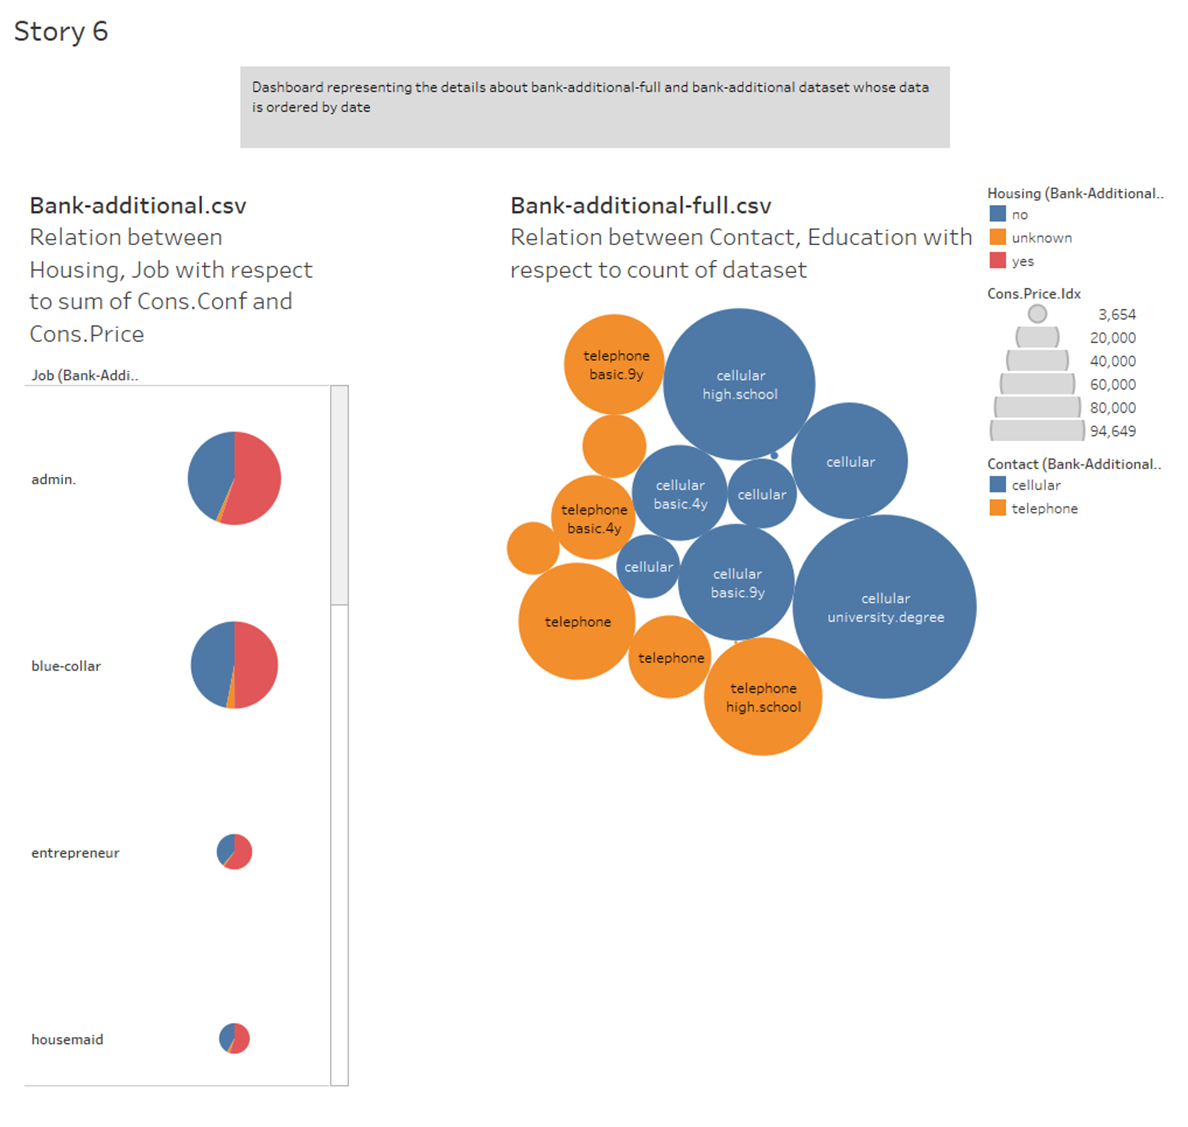

The page's visual inventory and layout, read from the dashboard file:
{"tool":"tableau","page":{"name":"Dashboard 2","canvas":[1000,800],"ordinal":1},"visuals":[{"type":"worksheet","title":"Sheet 2","mark":"Pie","rows":["job (bank-additional.csv)"],"box":[8,8,412,784]},{"type":"worksheet","title":"Sheet 1","mark":"Circle","box":[420,8,412,784]},{"type":"legend","title":"Sheet 2","param":"[federated.1iuugzy0r8b52j1bh1jbb0fz77mk].[none:housing (bank-additional.csv):nk]","box":[832,8,160,93]},{"type":"legend","title":"Sheet 2","param":"[federated.1iuugzy0r8b52j1bh1jbb0fz77mk].[sum:cons.price.idx:qk]","box":[832,101,160,156]},{"type":"legend","title":"Sheet 1","param":"[federated.1iuugzy0r8b52j1bh1jbb0fz77mk].[none:contact (bank-additional-full.csv","box":[832,257,160,72]}]}

Visuals, with their boxes on the page's 1000x800 design canvas (x1, y1, x2, y2). These are canvas units, not pixel positions in the 1188x1127 screenshot, which may show the page scaled, cropped or inside an application window:
"Sheet 2" worksheet (Pie marks): {"x1": 8, "y1": 8, "x2": 420, "y2": 792}
"Sheet 1" worksheet (Circle marks): {"x1": 420, "y1": 8, "x2": 832, "y2": 792}
"Sheet 2" legend: {"x1": 832, "y1": 8, "x2": 992, "y2": 101}
"Sheet 2" legend: {"x1": 832, "y1": 101, "x2": 992, "y2": 257}
"Sheet 1" legend: {"x1": 832, "y1": 257, "x2": 992, "y2": 329}
